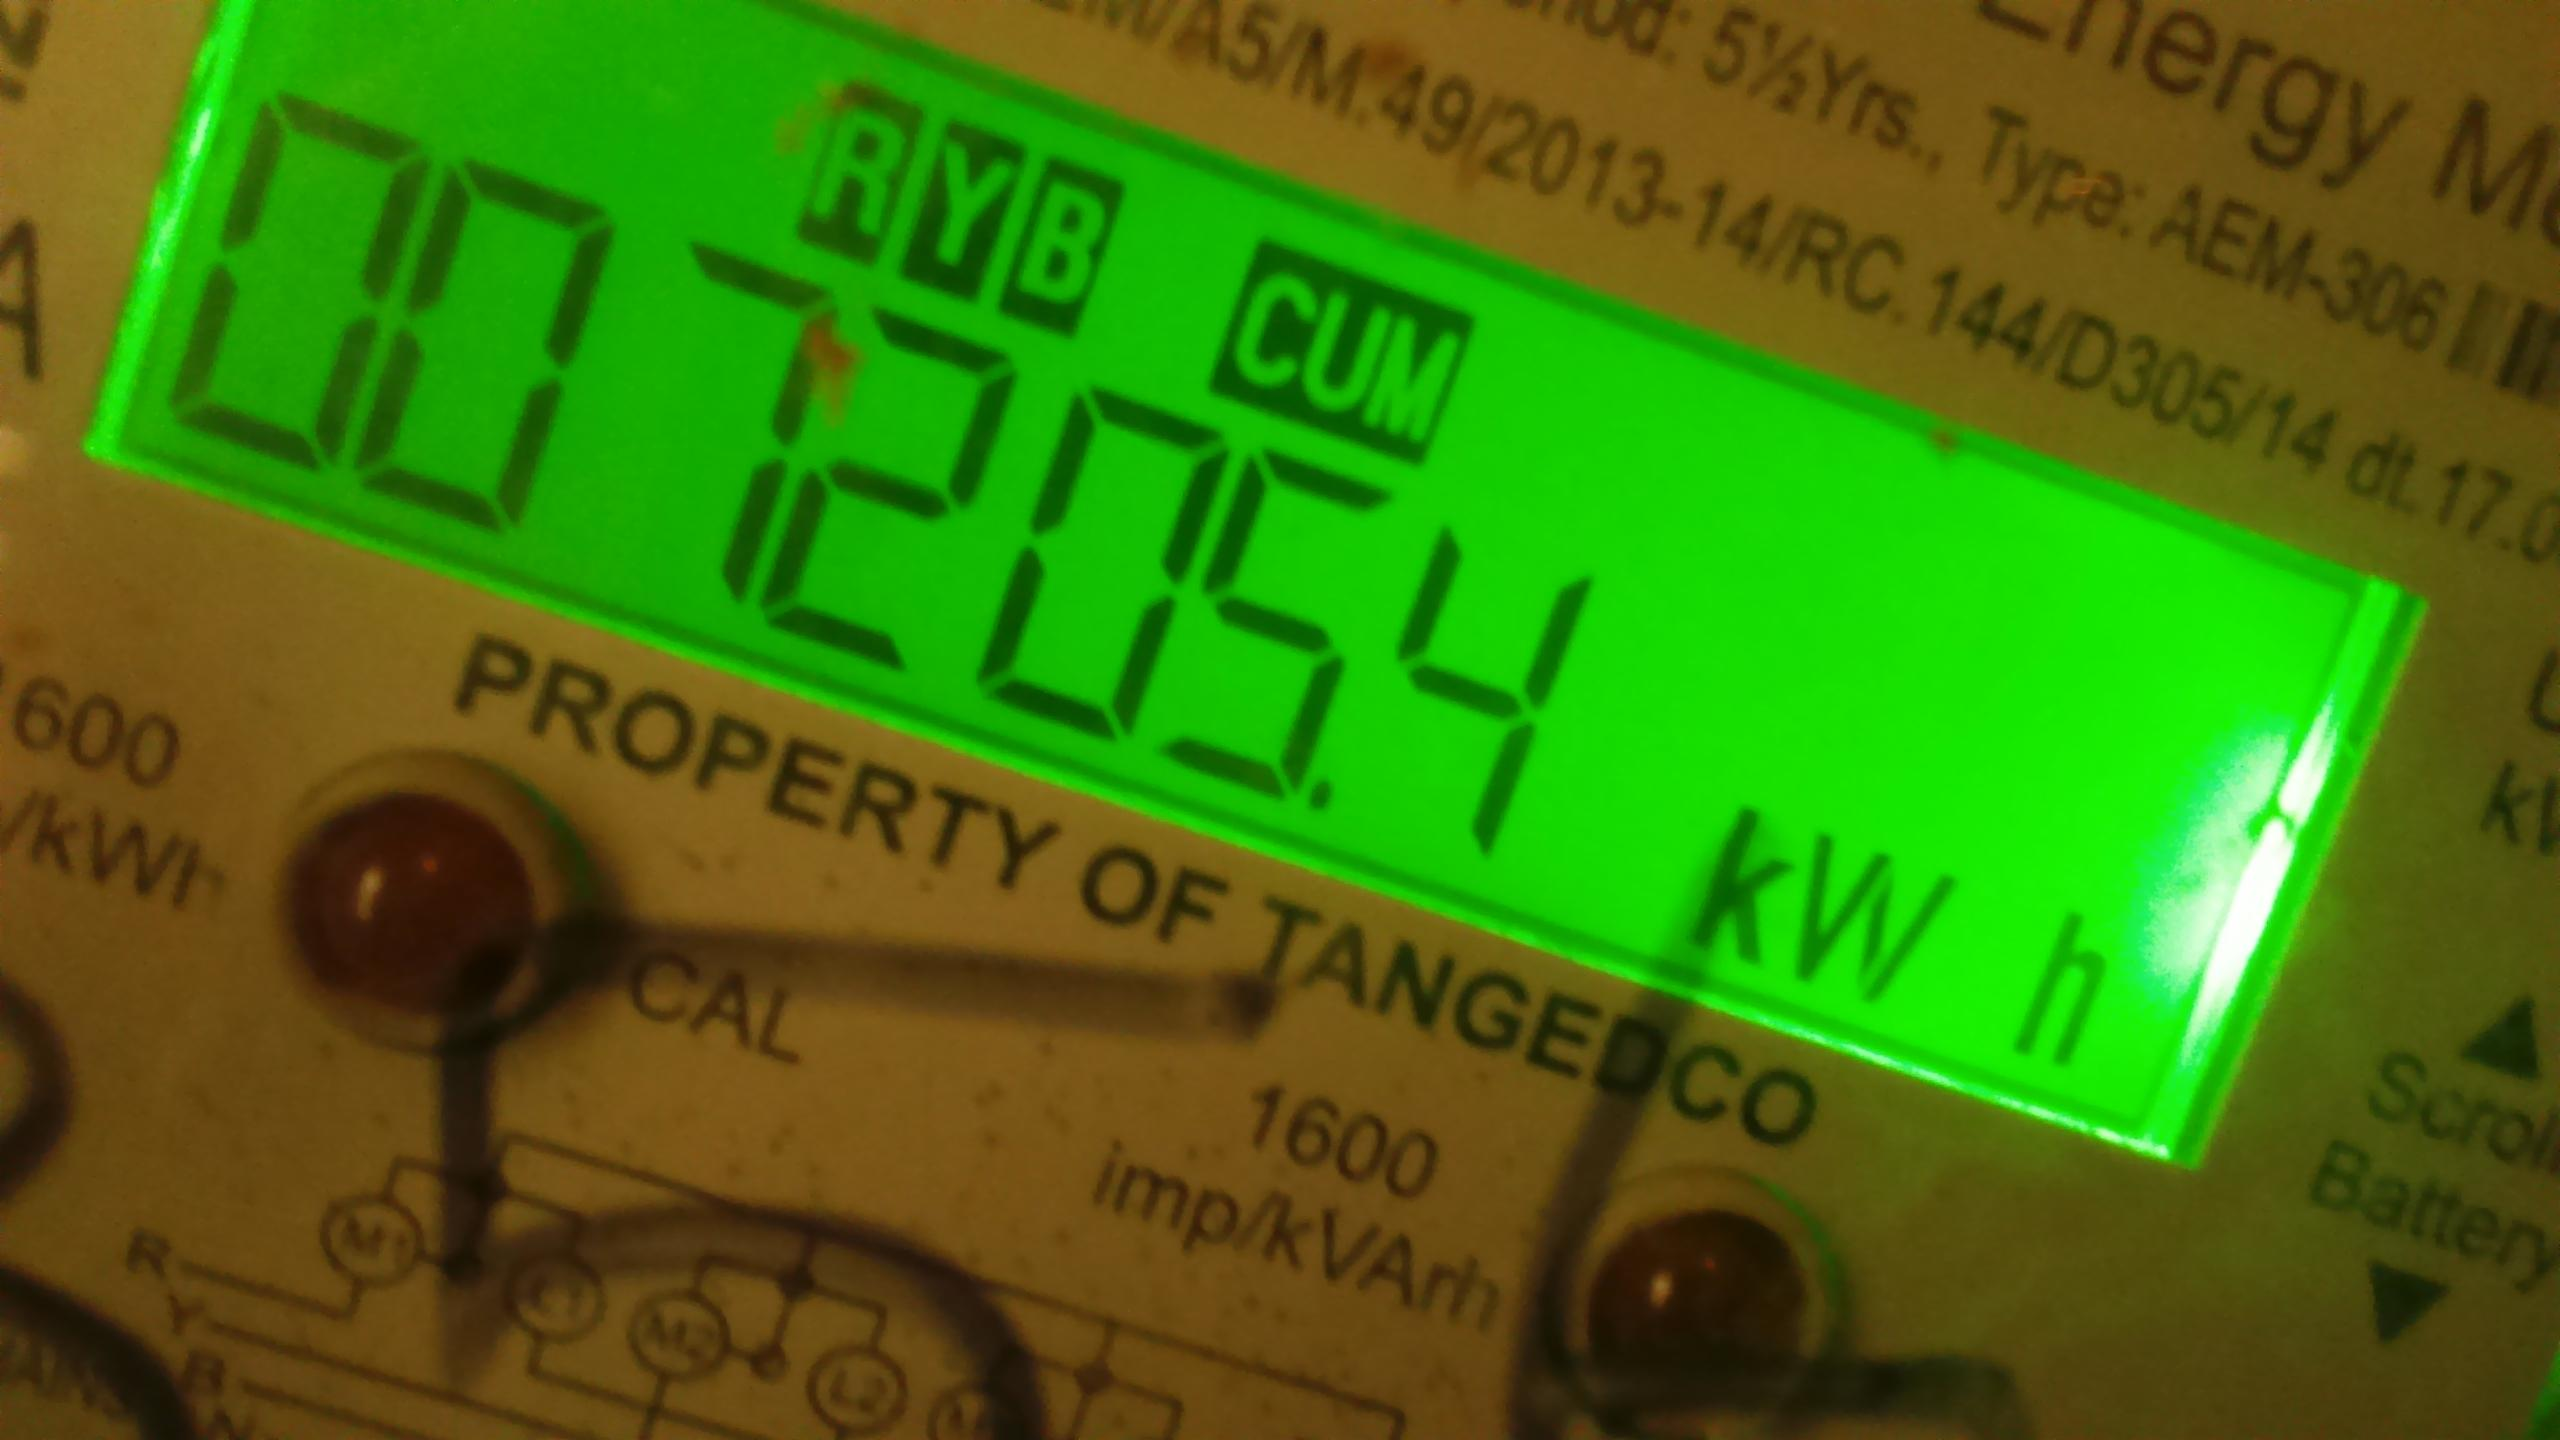.: (1691, 793, 2113, 1078)
0: (1275, 758, 1371, 853)
1: (341, 153, 666, 559), (144, 83, 468, 469), (967, 378, 1262, 716)
3: (754, 313, 1051, 689)
5: (1361, 538, 1642, 856)
6: (1157, 433, 1452, 796)
8: (621, 234, 842, 615)
